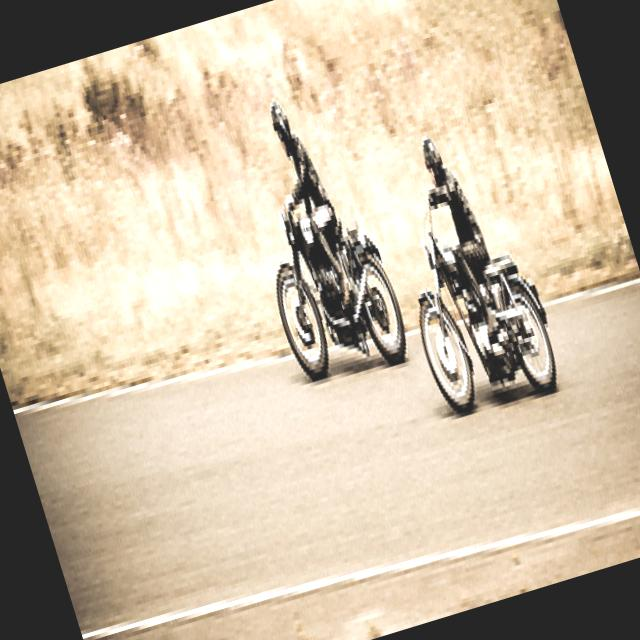Vehicle: (380, 173, 572, 431), (252, 194, 416, 392)
